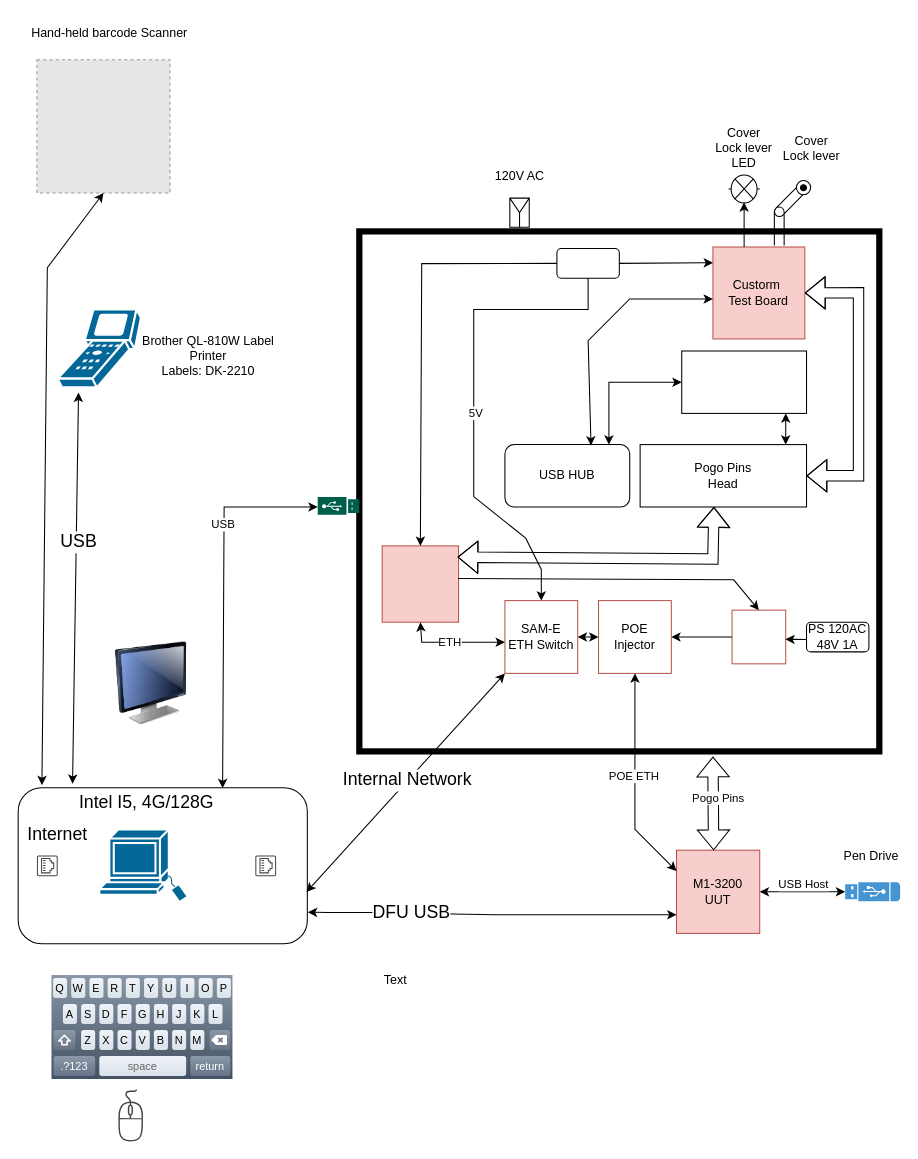
This 918x1159 diagram has some shape labels left out. Grey dashed boxes stand in for pictures. The box of each missing label's shape, as (x1, y1, x2, y2) in pixels:
48V Switch: (731, 609, 786, 664)
Mercury Custorm Test Board: (381, 545, 459, 622)
PS 120AC 12V/5V 3A: (556, 248, 619, 278)
RS232/3.3V: (681, 350, 807, 413)
